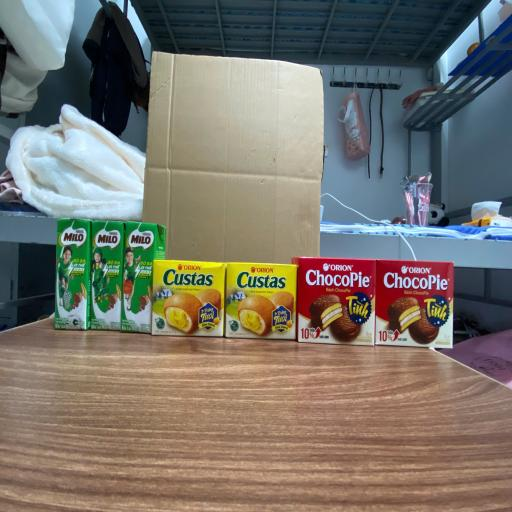chocopie: (292, 256, 376, 346), (375, 259, 454, 349)
custas: (152, 259, 226, 337), (226, 262, 298, 339)
milo: (121, 220, 167, 332), (54, 218, 91, 330), (91, 220, 123, 331)
